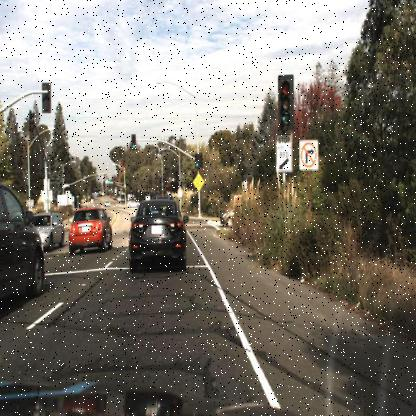car: (122, 188, 197, 286), (0, 180, 48, 322), (59, 198, 119, 256), (28, 210, 64, 256)
trafficLight-Green: (271, 59, 302, 153), (126, 128, 138, 157), (192, 146, 202, 176)
